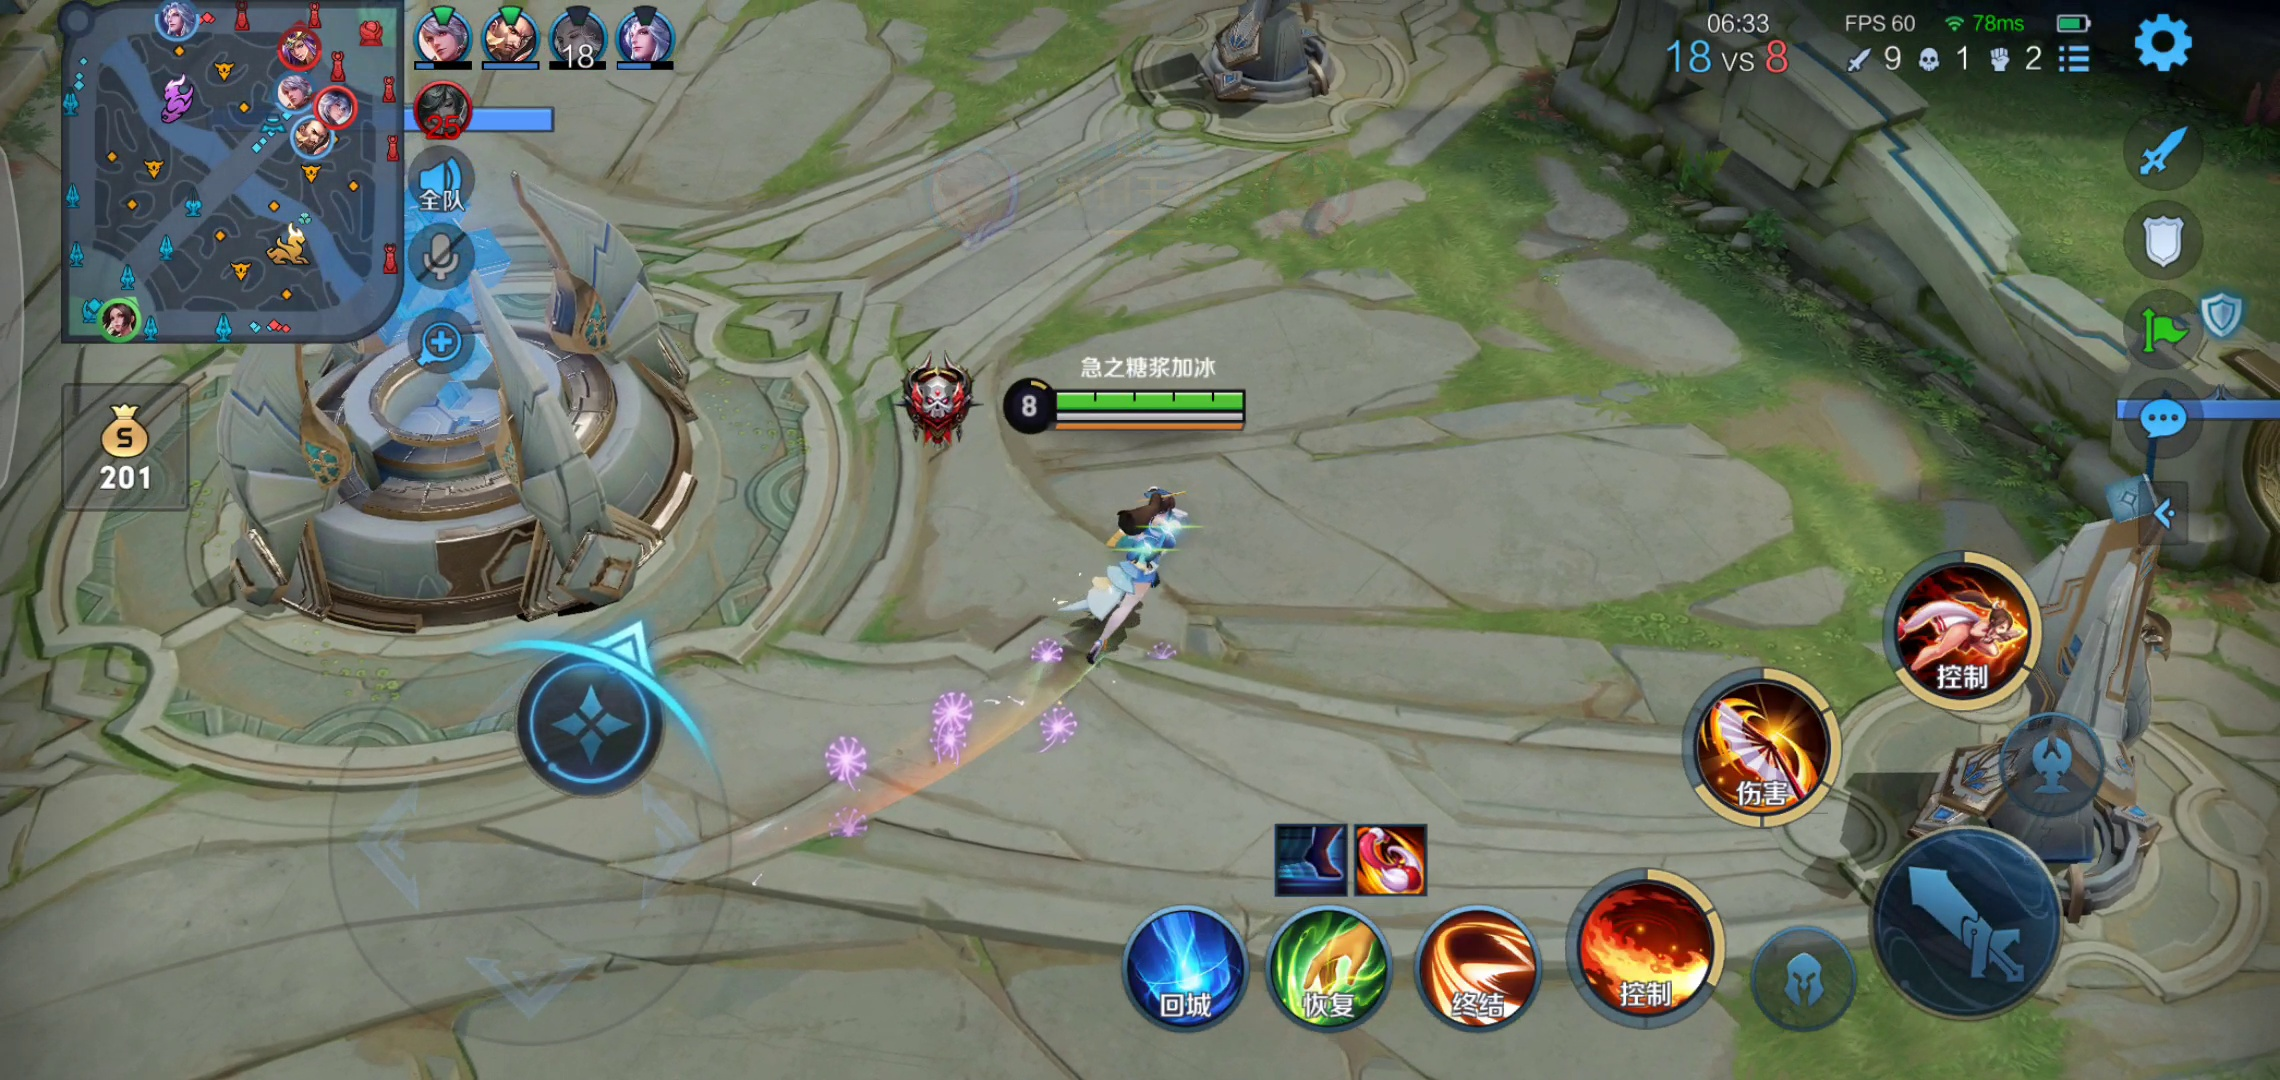crystal: (209, 172, 734, 632)
hero: (1054, 477, 1198, 658)
tower: (1911, 484, 2178, 923), (1197, 1, 1358, 124)
